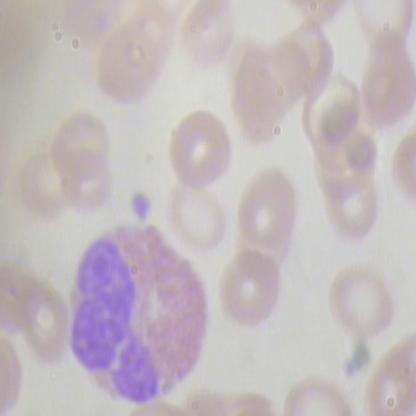Platelets: (124, 192, 154, 226)
RBC: (232, 165, 304, 273), (166, 106, 238, 195), (326, 256, 394, 350), (356, 28, 416, 134), (221, 248, 285, 332), (48, 108, 114, 186), (168, 183, 232, 263), (326, 178, 386, 248)
WBC: (46, 220, 221, 410)
